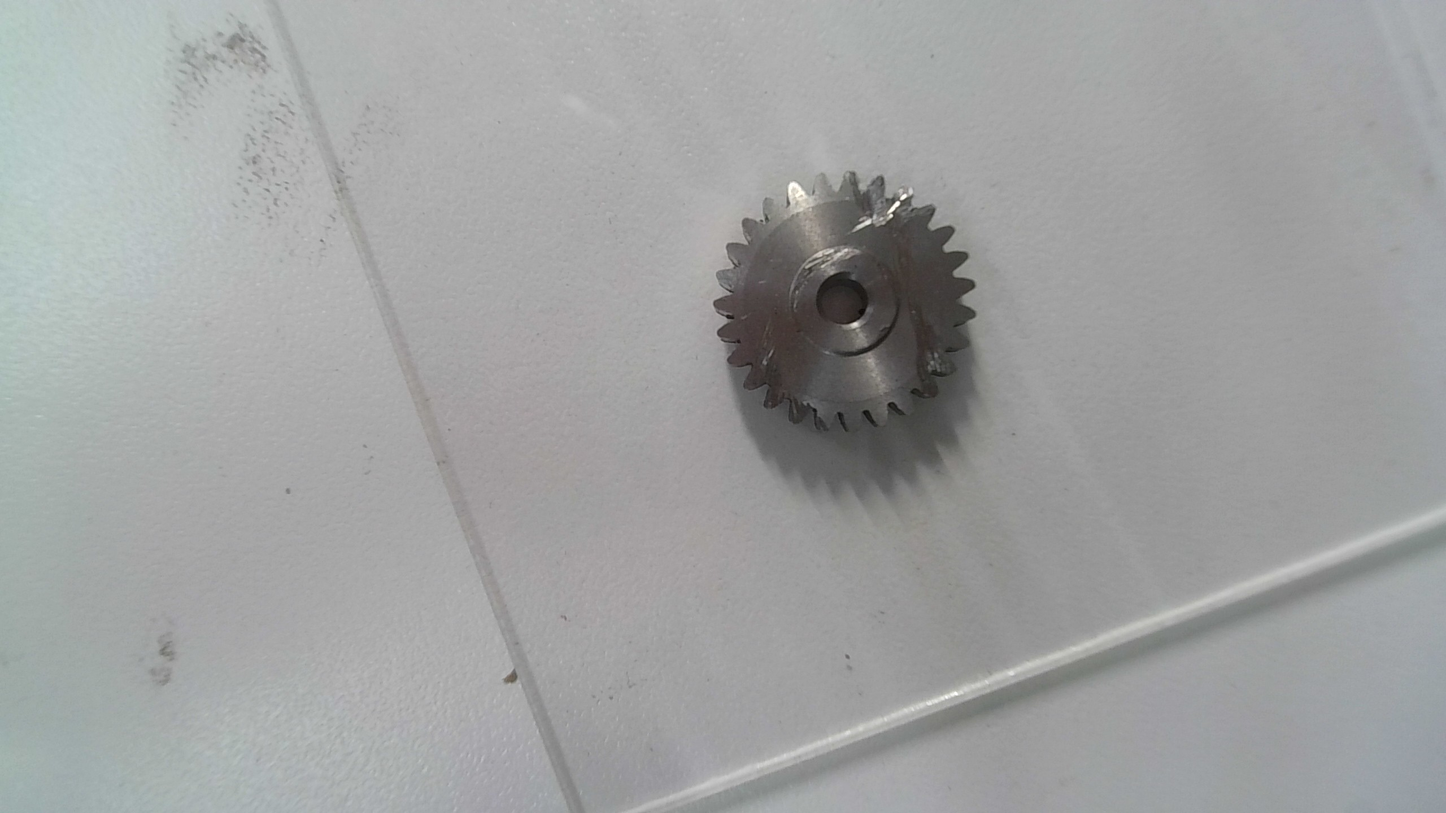gear: (709, 167, 981, 435)
